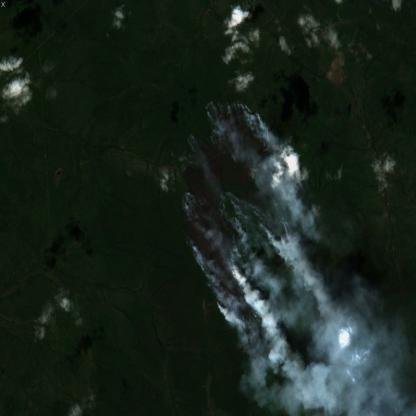fire: (175, 96, 314, 344)
